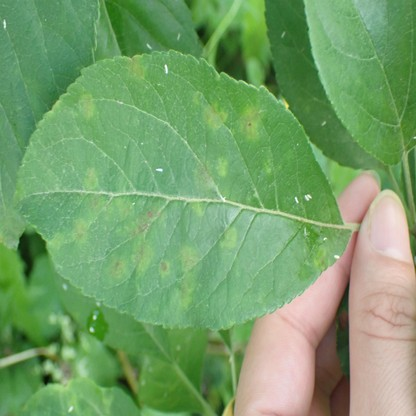scab: (124, 201, 167, 239), (179, 245, 200, 312), (87, 194, 132, 219), (238, 105, 263, 143), (0, 213, 25, 242), (131, 239, 151, 273), (204, 106, 227, 131), (194, 161, 213, 188), (105, 255, 125, 280), (312, 246, 327, 274), (71, 217, 86, 244), (81, 168, 98, 191), (220, 227, 237, 249), (128, 56, 143, 80), (79, 93, 94, 117), (49, 232, 65, 251), (217, 157, 226, 178), (159, 259, 169, 275), (192, 203, 203, 217), (194, 93, 204, 104), (265, 159, 272, 174)
